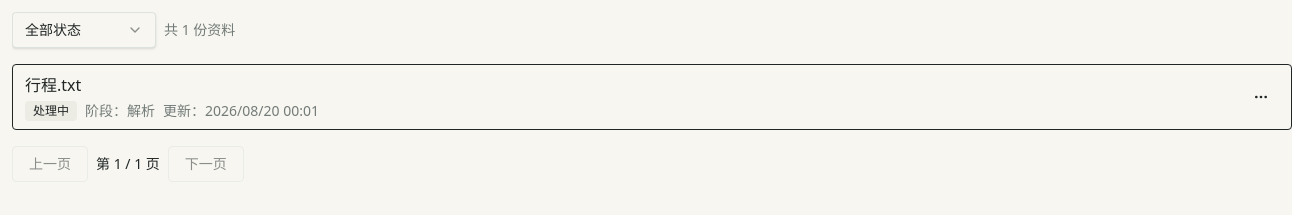
Test: 资料详情上下文 › 资料行展示中文阶段与时间，详情和删除收进次级操作菜单
Check: the text "行程.txt" is shown, box [25,74,81,96]
Check: the text "处理中" is shown, box [25,101,77,121]
Click the button named "资料操作 行程.txt".
click(1261, 97)  # box [1243,79,1279,115]
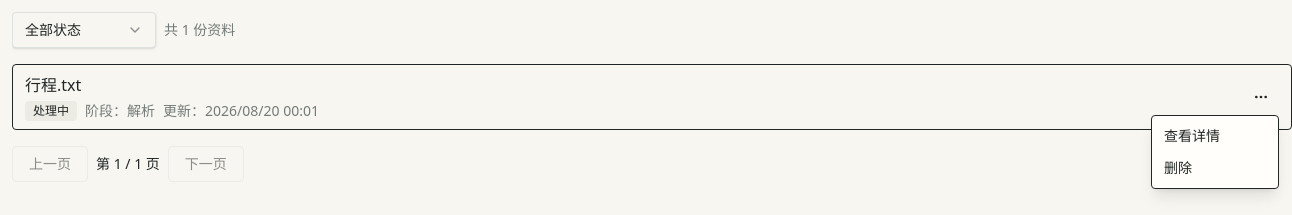
Check: the menu item "查看详情" is shown, box [1164,126,1220,145]
Check: the menu item "删除" is shown, box [1164,158,1192,177]
